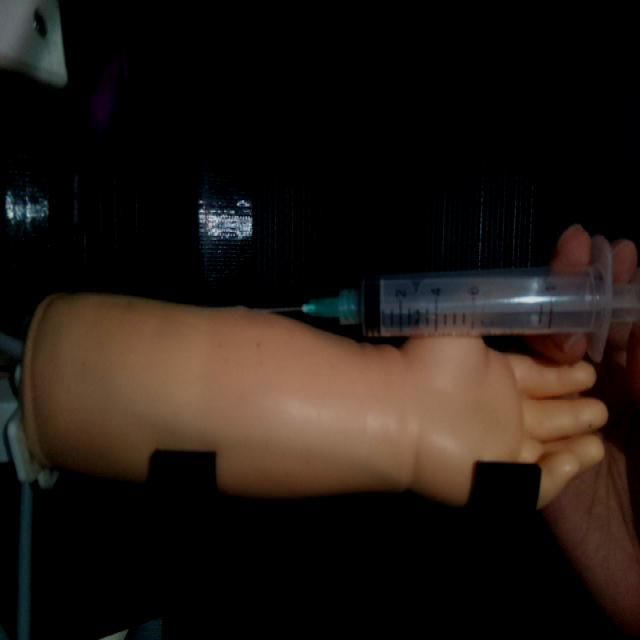Below 15 degrees: (262, 256, 637, 344)
